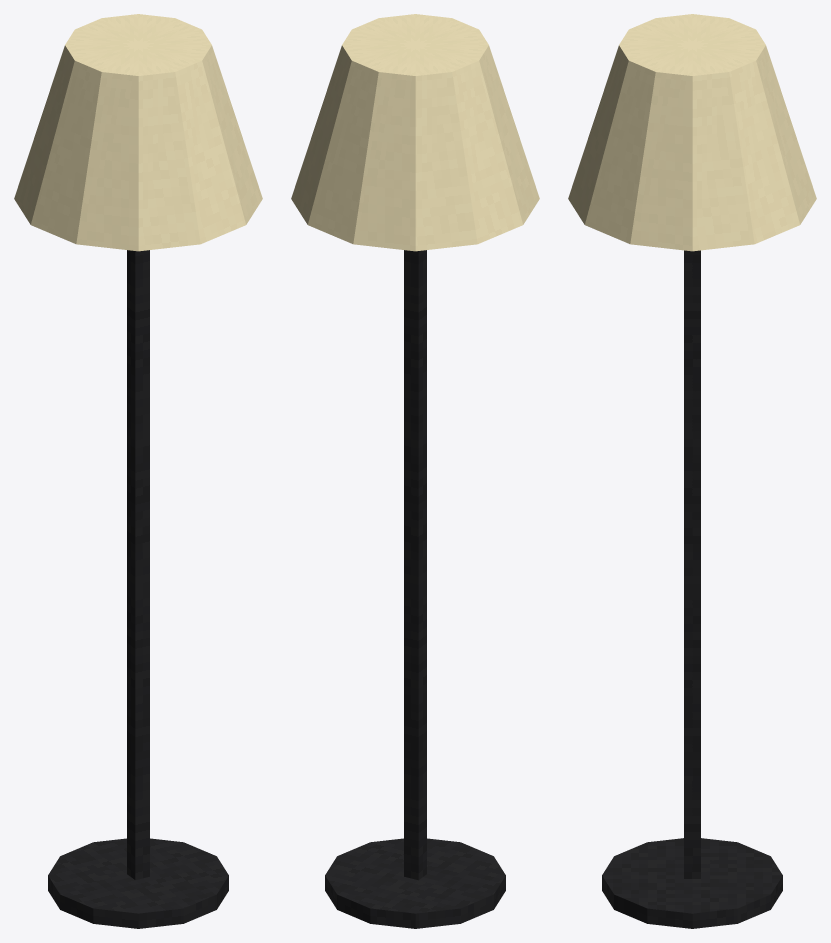
Rendered from floor_lamp.glb.
3 views of the same model, side by side, from view 1: azimuth 30°, elevation 25°; view 2: azimuth 150°, elevation 25°; view 3: azimuth 270°, elevation 25° (orthographic).
Parts seen in each view (by area): view 1: floor_lamp; view 2: floor_lamp; view 3: floor_lamp.
Part boxes in pixels (left/top/right/bottom): floor_lamp: left=14, top=14, right=262, bottom=928; floor_lamp: left=291, top=14, right=539, bottom=928; floor_lamp: left=568, top=14, right=816, bottom=928.
Bounding box in the file's own units: 0.44 × 1.65 × 0.44.
Materials: 2 (2 with a texture image).
